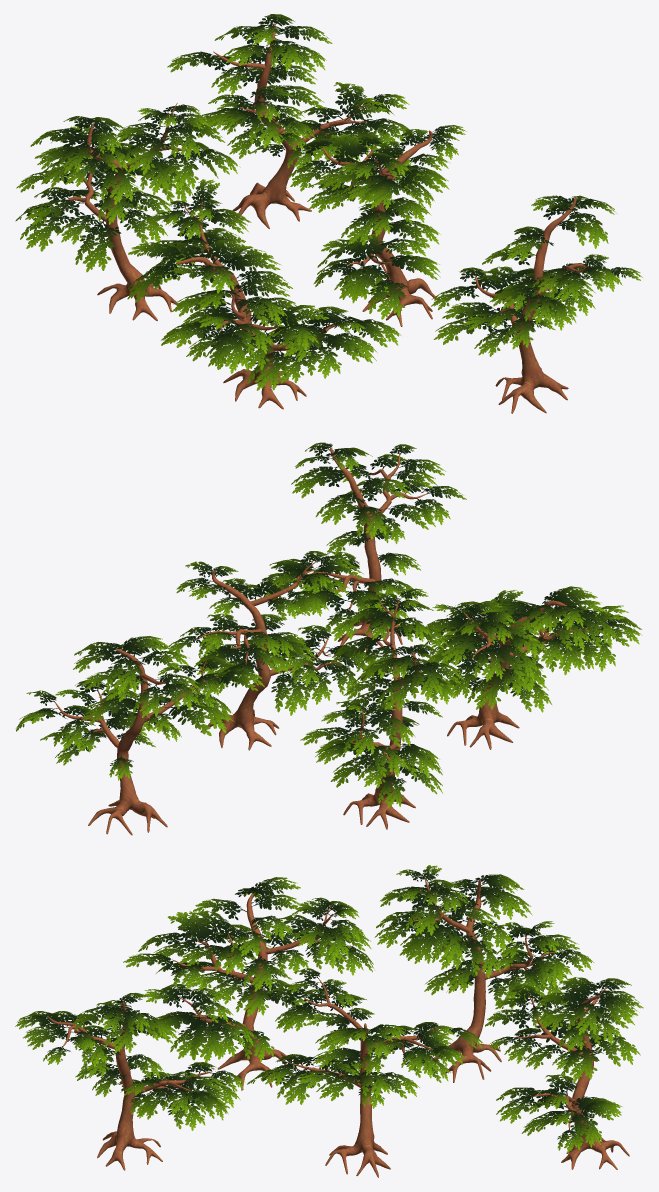
The model's file is nature-tree-pack.glb.
The picture shows the model from 3 angles, top to bottom: view 1: azimuth 30°, elevation 25°; view 2: azimuth 150°, elevation 25°; view 3: azimuth 270°, elevation 25°; orthographic projection. The views are drawn at different scales.
Parts seen in each view (by area): view 1: main.010, main.009, main.007, main.006, main.008; view 2: main.010, main.007, main.009, main.006, main.008; view 3: main.010, main.009, main.006, main.007, main.008.
Boxes of the visible parts, x1=… form: main.010: x1=127, y1=179, x2=401, y2=409; main.009: x1=15, y1=103, x2=240, y2=320; main.007: x1=287, y1=125, x2=466, y2=326; main.006: x1=167, y1=14, x2=411, y2=228; main.008: x1=431, y1=195, x2=642, y2=413; main.010: x1=423, y1=586, x2=642, y2=749; main.007: x1=166, y1=551, x2=375, y2=750; main.009: x1=300, y1=588, x2=464, y2=829; main.006: x1=16, y1=636, x2=264, y2=835; main.008: x1=263, y1=442, x2=466, y2=651; main.010: x1=123, y1=877, x2=373, y2=1090; main.009: x1=374, y1=865, x2=593, y2=1082; main.006: x1=485, y1=977, x2=643, y2=1169; main.007: x1=247, y1=968, x2=483, y2=1177; main.008: x1=15, y1=992, x2=244, y2=1170.
Size of the model in its own units: 21.91 by 10.54 by 29.52.
2 materials, 2 textured.
